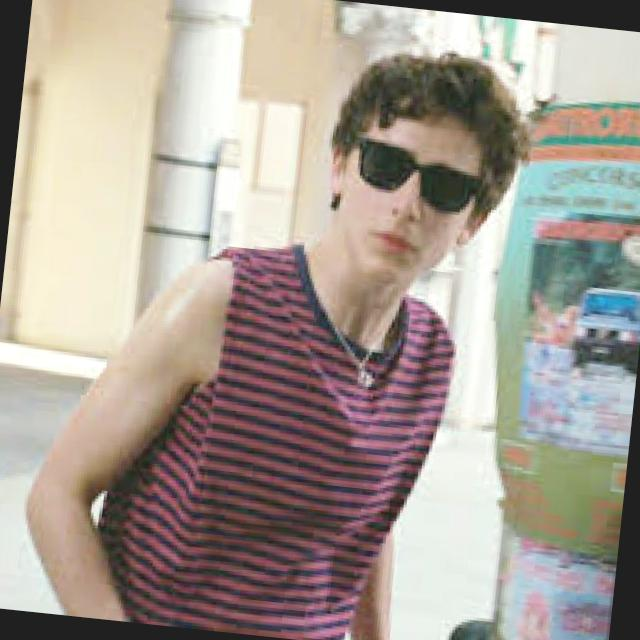no_vest: (85, 221, 466, 640)
